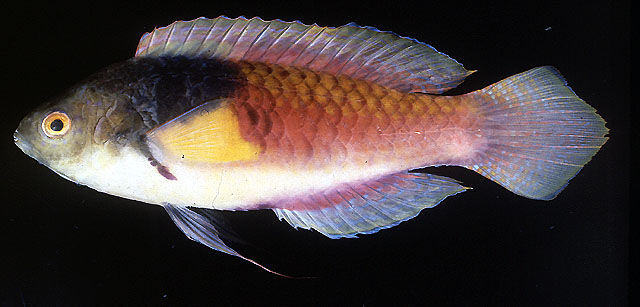fish: (14, 16, 610, 280)
